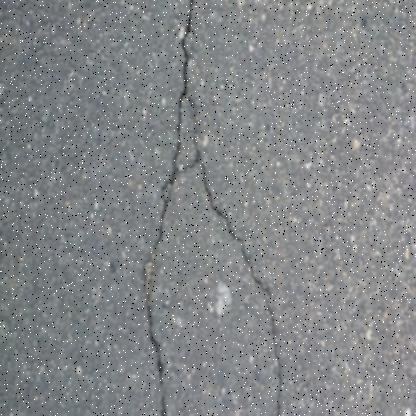Cracks: (140, 0, 289, 416)
